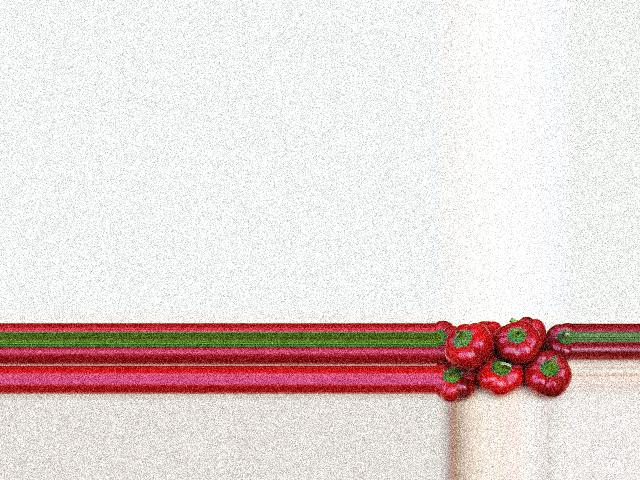bell_pepper: (482, 318, 501, 337)
